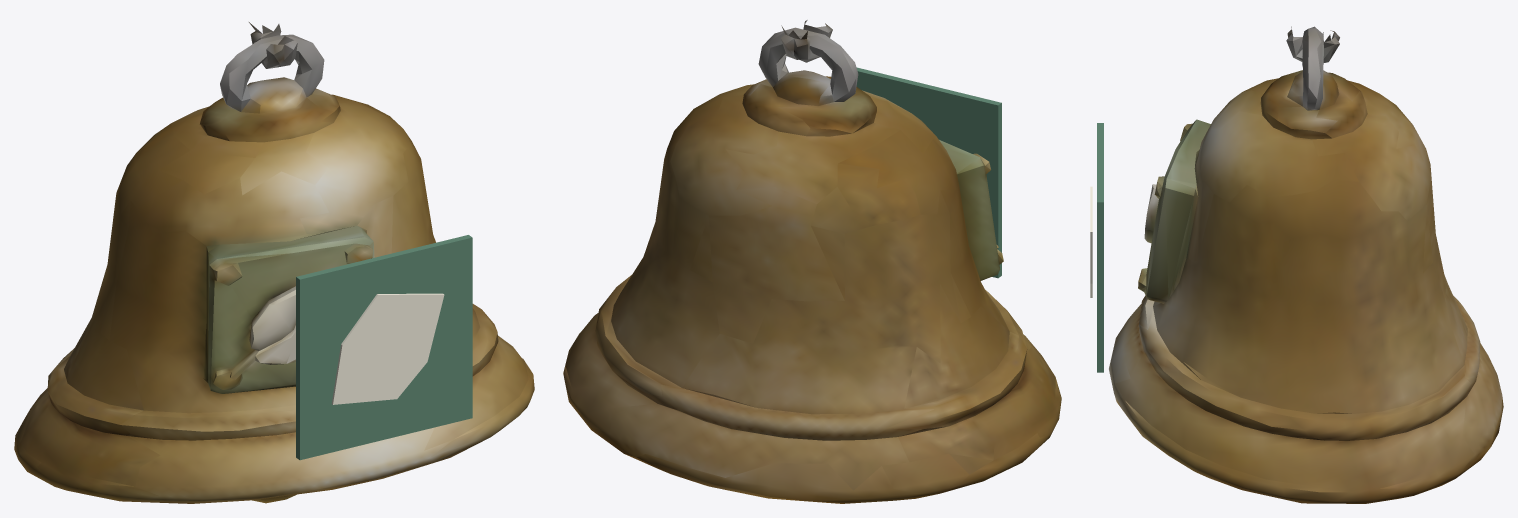
File: bell_leaf.glb
The picture shows the model from 3 angles, left to right: view 1: azimuth 30°, elevation 25°; view 2: azimuth 150°, elevation 25°; view 3: azimuth 270°, elevation 25°; orthographic projection. The views are drawn at different scales.
Visible parts, largest first — view 1: Tripo bell leaf, Exact leaf symbol plaque, Exact cream leaf inlay; view 2: Tripo bell leaf, Exact leaf symbol plaque; view 3: Tripo bell leaf, Exact leaf symbol plaque.
Part boxes in pixels (left/top/right/bottom): Tripo bell leaf: left=14, top=22, right=534, bottom=503; Exact leaf symbol plaque: left=296, top=235, right=472, bottom=460; Exact cream leaf inlay: left=331, top=293, right=444, bottom=404; Tripo bell leaf: left=563, top=20, right=1061, bottom=503; Exact leaf symbol plaque: left=856, top=67, right=1001, bottom=278; Tripo bell leaf: left=1109, top=26, right=1503, bottom=503; Exact leaf symbol plaque: left=1097, top=123, right=1103, bottom=372.
Bounding box in the file's own units: 0.5789 × 0.5501 × 0.4618.
Materials: 3 (1 with a texture image).
